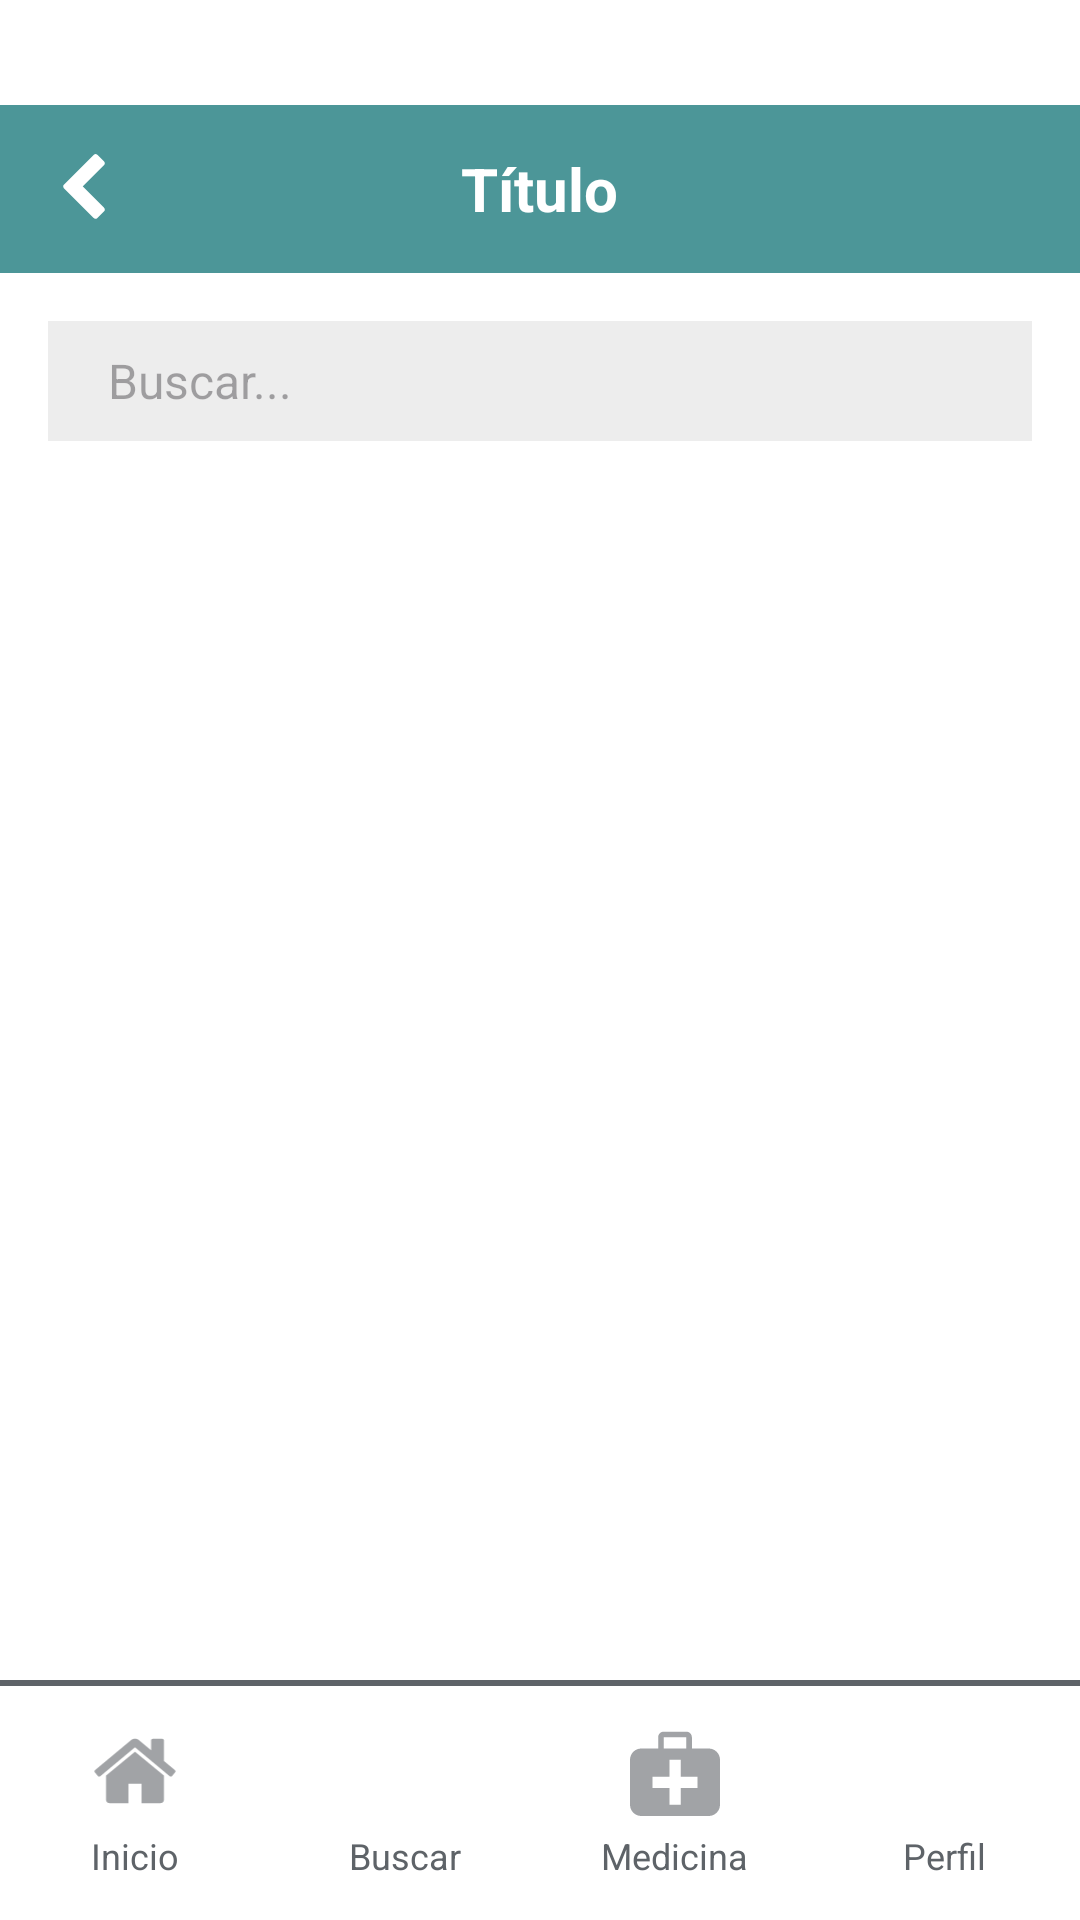

Screen size 1080 × 1920. Icon name, then its center in pixels as [x,y]:
aid kit: [675,1774]
chevron left: [84,186]
